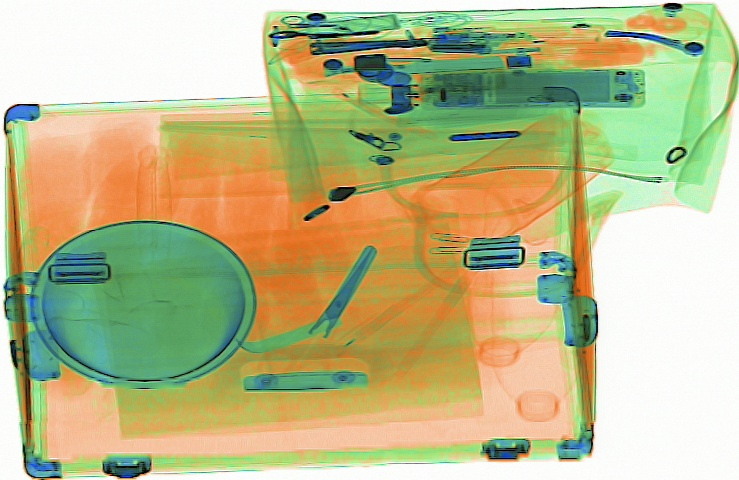scissors: (248, 243, 376, 420)
